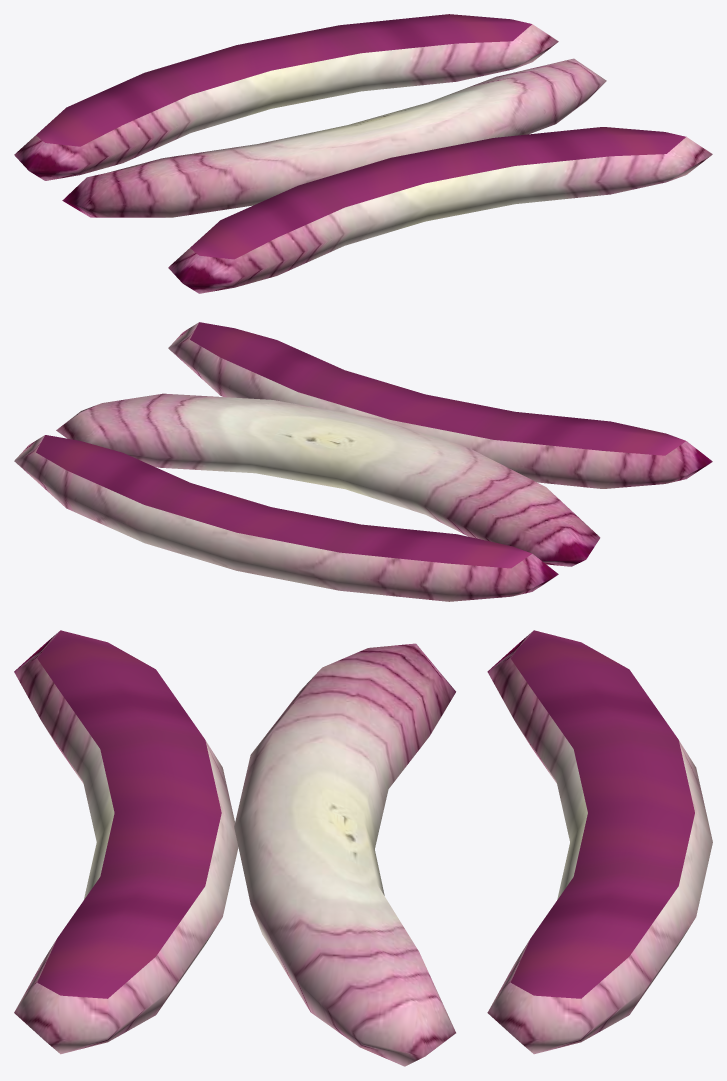
File: CEBOLLA FINAL.fbx
The picture shows the model from 3 angles, top to bottom: view 1: azimuth 30°, elevation 25°; view 2: azimuth 150°, elevation 25°; view 3: azimuth 270°, elevation 25°; orthographic projection. The views are drawn at different scales.
Visible parts, largest first — view 1: CEBOLLA FINAL; view 2: CEBOLLA FINAL; view 3: CEBOLLA FINAL.
Part boxes in pixels (x1,y1,x2,y2): CEBOLLA FINAL: [14, 14, 712, 293]; CEBOLLA FINAL: [14, 322, 712, 601]; CEBOLLA FINAL: [14, 630, 712, 1066].
Bounding box in the file's own units: 3.38 × 0.3415 × 2.49.
2 materials, 2 textured.
